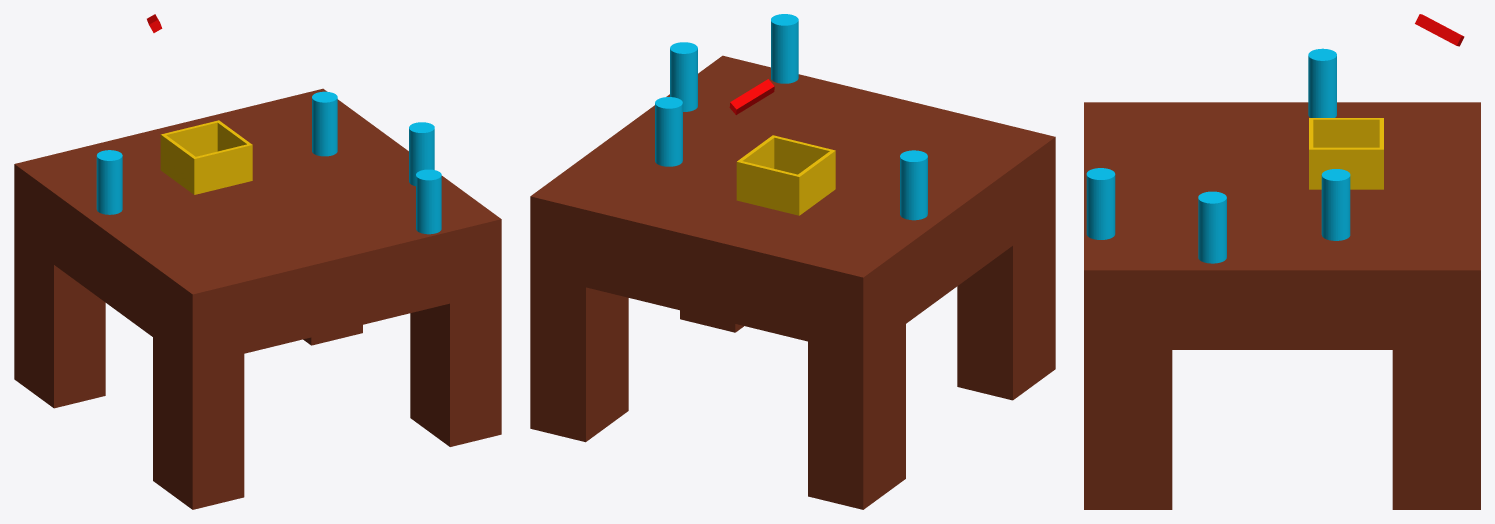
The model's file is problem_4.dae.
3 views of the same model, side by side, from view 1: azimuth 30°, elevation 25°; view 2: azimuth 150°, elevation 25°; view 3: azimuth 270°, elevation 25° (orthographic). The views are drawn at different scales.
Visible parts, largest first — view 1: base (×12); view 2: base (×13); view 3: base (×10).
Part boxes in pixels (left/top/right/bottom): base (×12): left=14, top=88, right=501, bottom=509; base (×13): left=530, top=14, right=1055, bottom=509; base (×10): left=1084, top=14, right=1480, bottom=509.
Size of the model in its own units: 0.9 by 0.9 by 0.9785.
